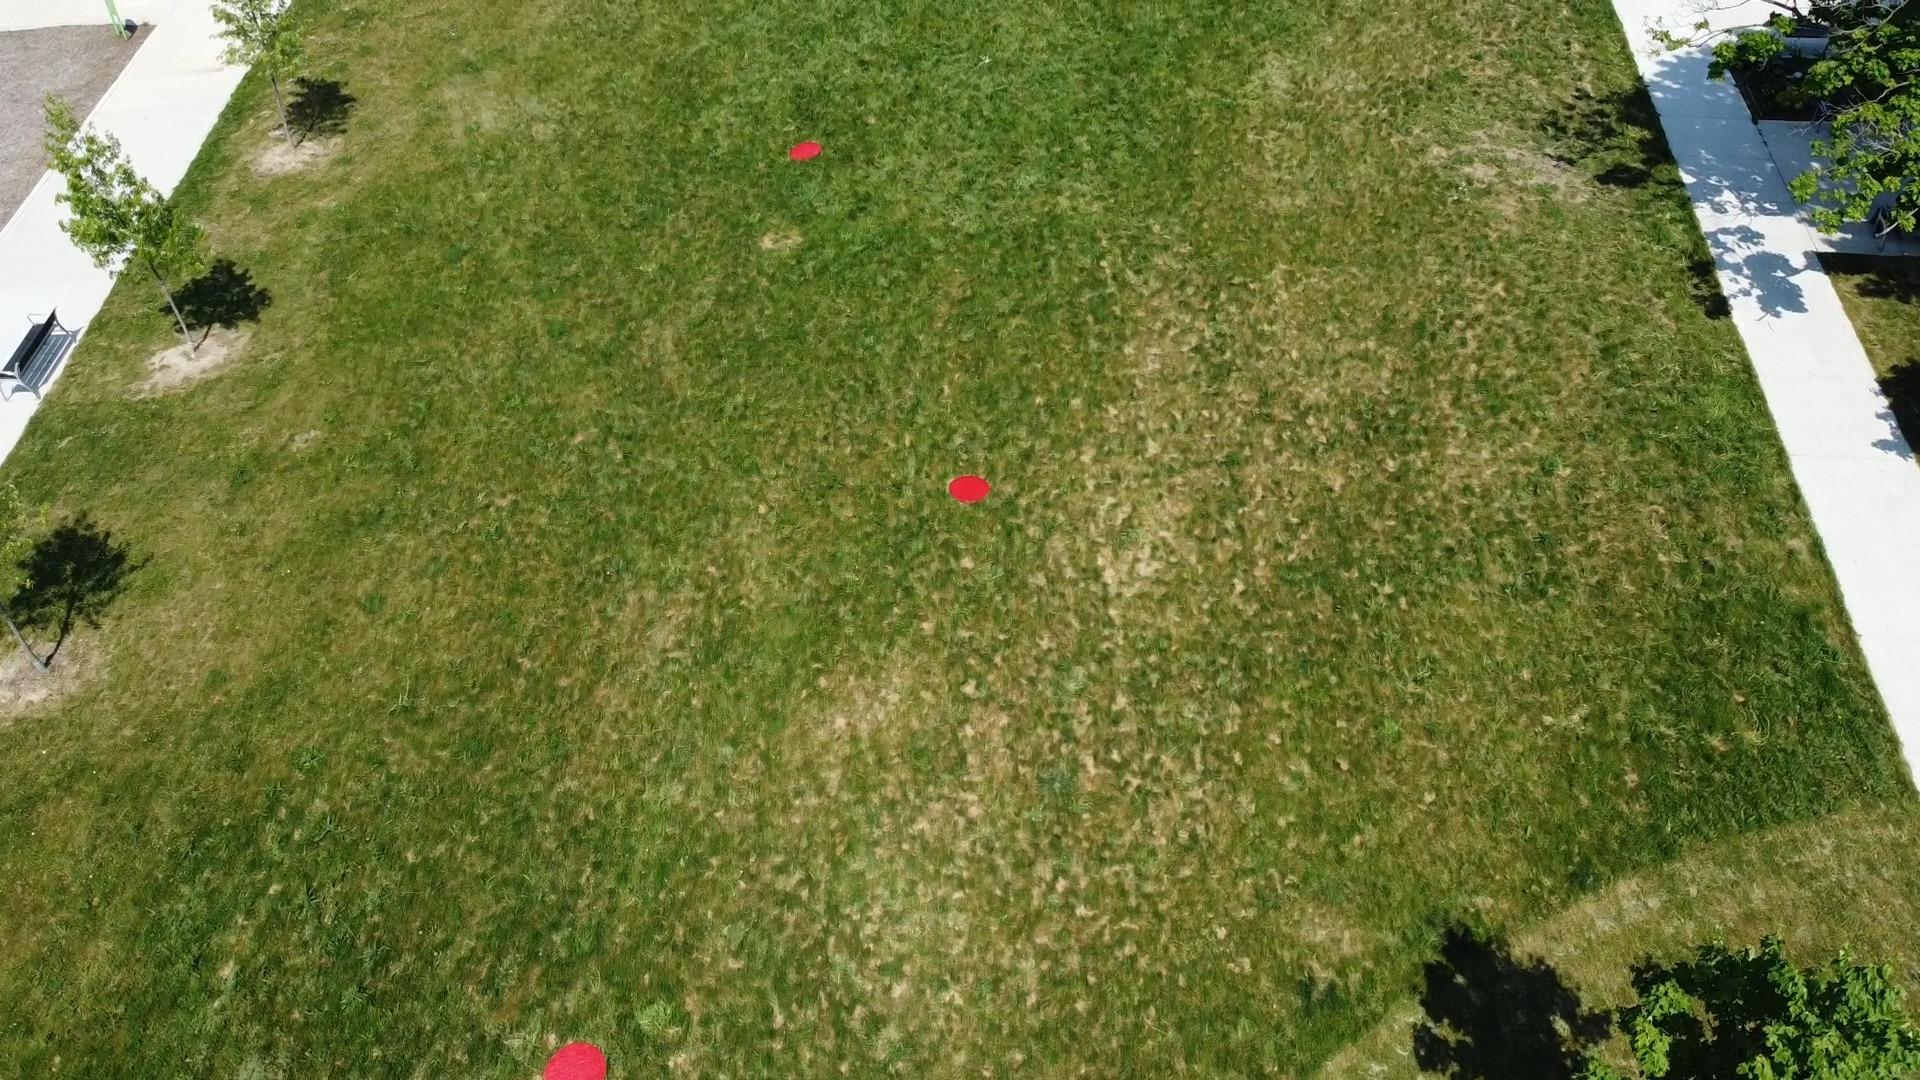Red: (541, 1039, 609, 1080), (948, 472, 993, 506), (786, 141, 825, 164)
